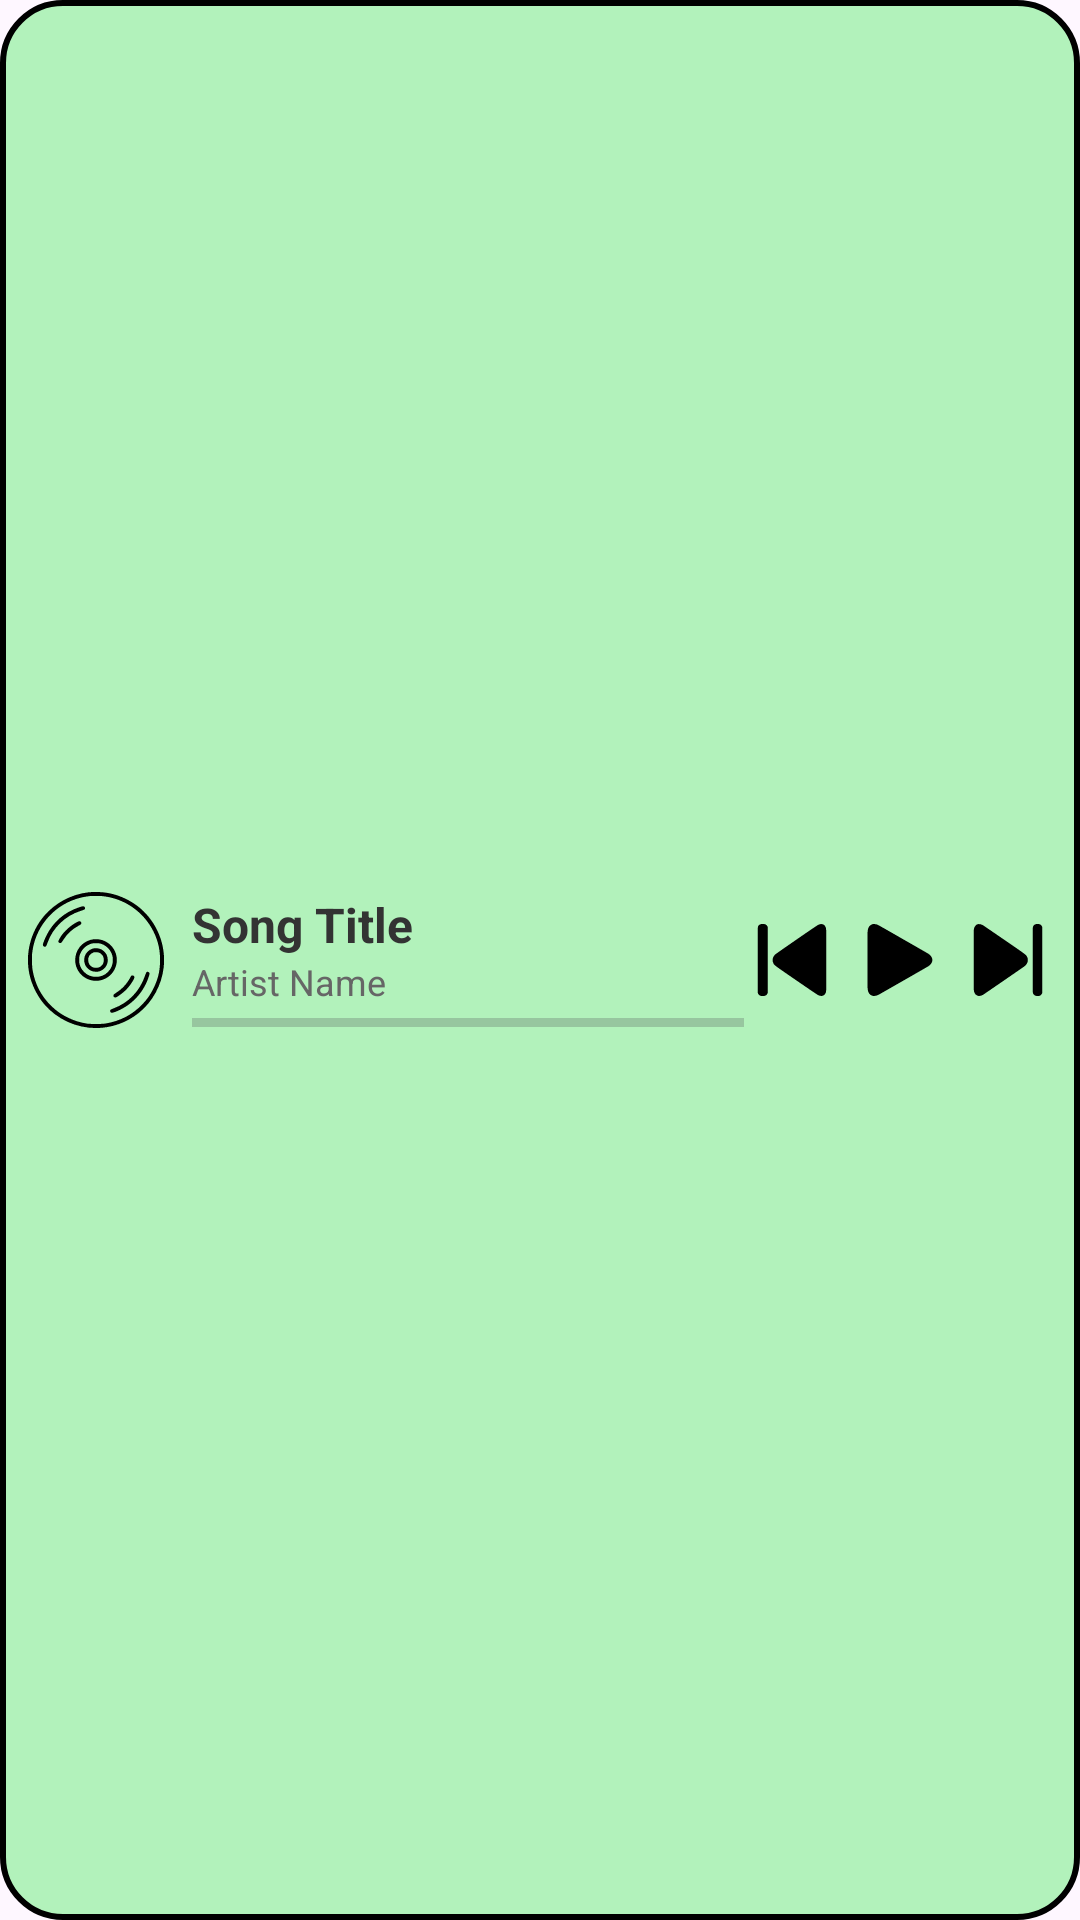

Screen size 1080w x 1920h. Icon name, then its box in pixels as (x1, y1, x2, y2):
Album Art: (28, 892, 164, 1028)
Next: (973, 924, 1043, 996)
Play/Pause: (867, 924, 933, 996)
Previous: (757, 924, 827, 996)
